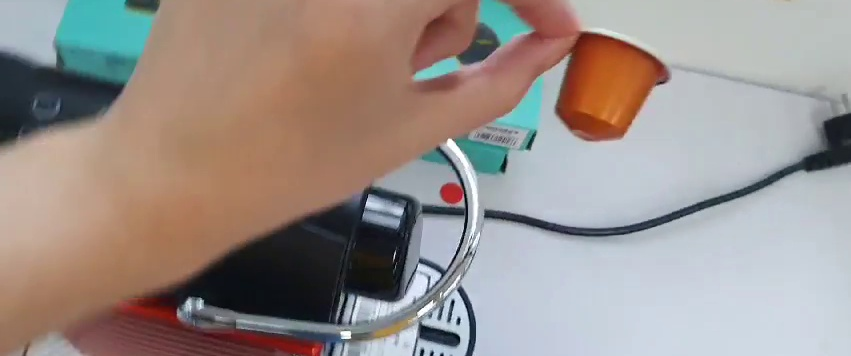capsule_5: (553, 24, 673, 145)
